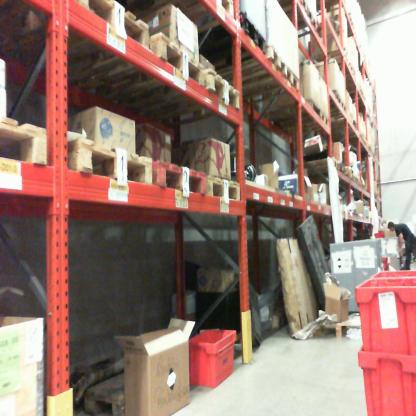pallet: (25, 0, 149, 84), (109, 38, 204, 114), (70, 136, 152, 192), (145, 78, 240, 120), (221, 46, 285, 92), (0, 113, 48, 170), (152, 162, 204, 198), (203, 30, 268, 58), (176, 0, 234, 28), (241, 66, 299, 94), (318, 315, 363, 338), (283, 108, 330, 130), (267, 106, 321, 124), (207, 177, 240, 204)
small_load_carrier: (346, 271, 414, 355), (349, 344, 415, 412), (184, 324, 240, 391)
